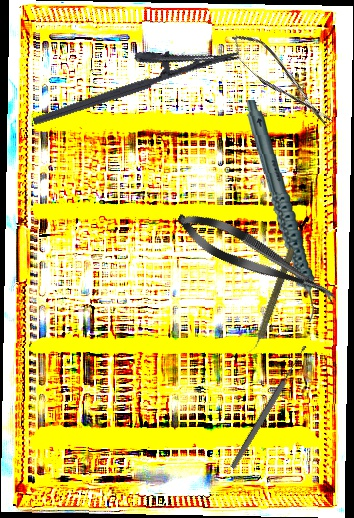Handpiece: (244, 97, 319, 325), (246, 246, 297, 357)
Micro Scissor: (170, 201, 345, 315), (224, 24, 339, 138)
Needle Holder: (23, 22, 240, 127)
Surgical Spoon: (229, 344, 309, 470)
